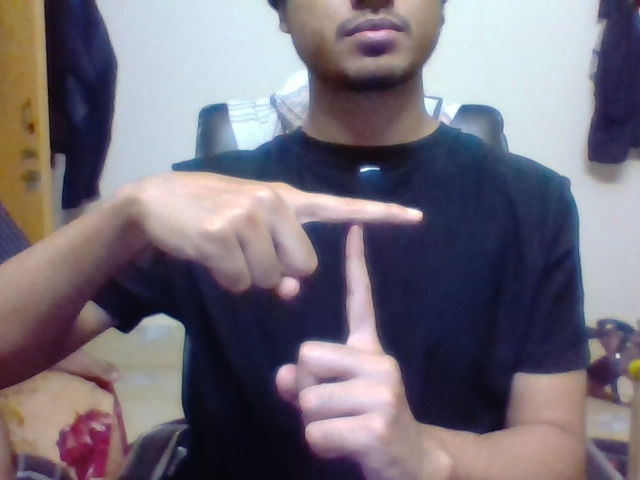T: (325, 184, 431, 326)
